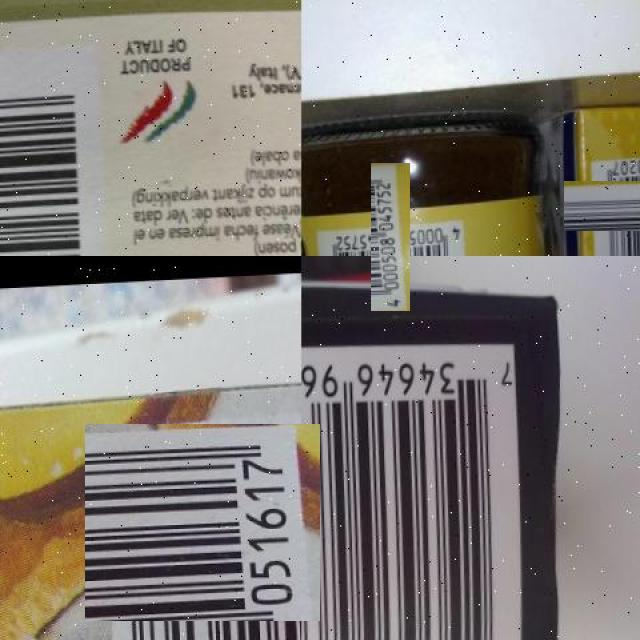Barcode: (302, 324, 534, 640), (94, 414, 310, 631), (0, 47, 112, 256), (343, 190, 438, 283), (577, 167, 640, 243)
